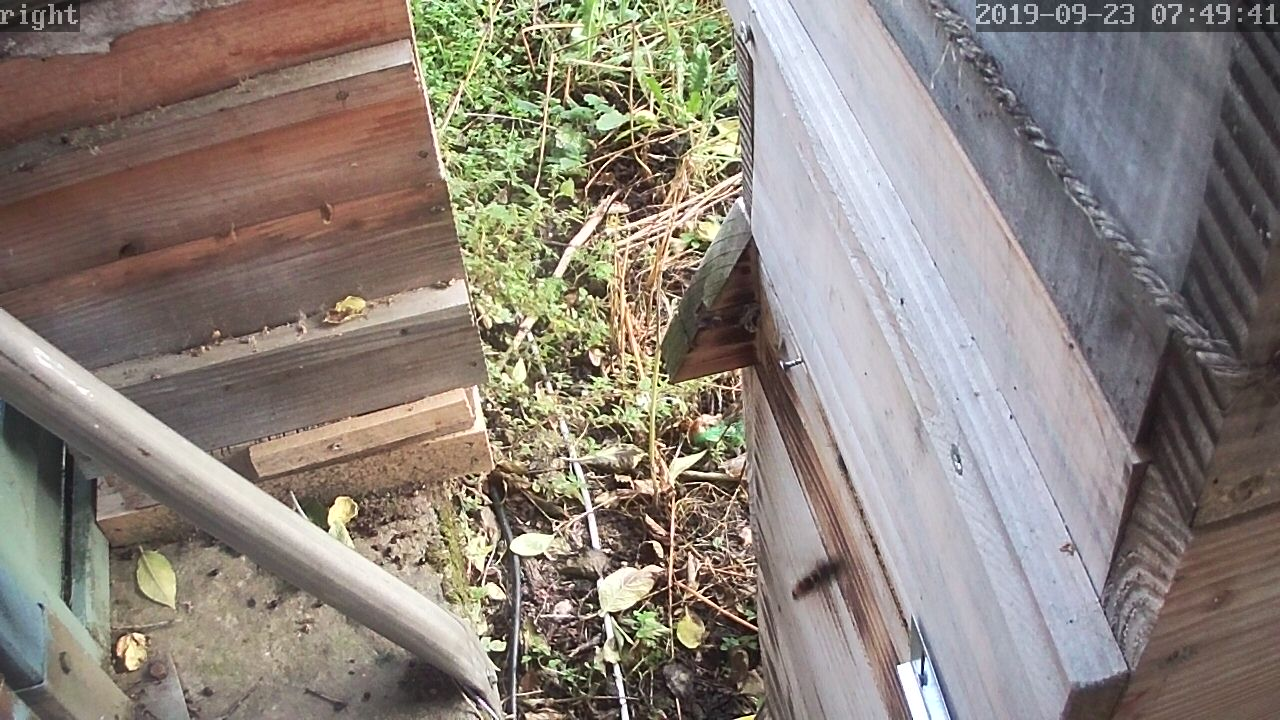bee: (785, 551, 852, 609)
hornet: (585, 134, 665, 215)
